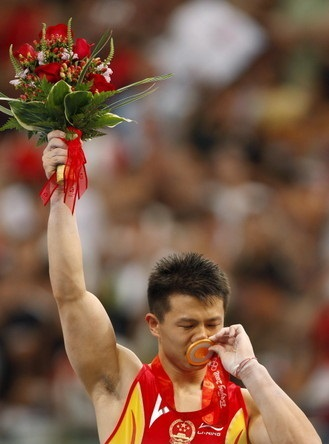face: (162, 289, 223, 374)
